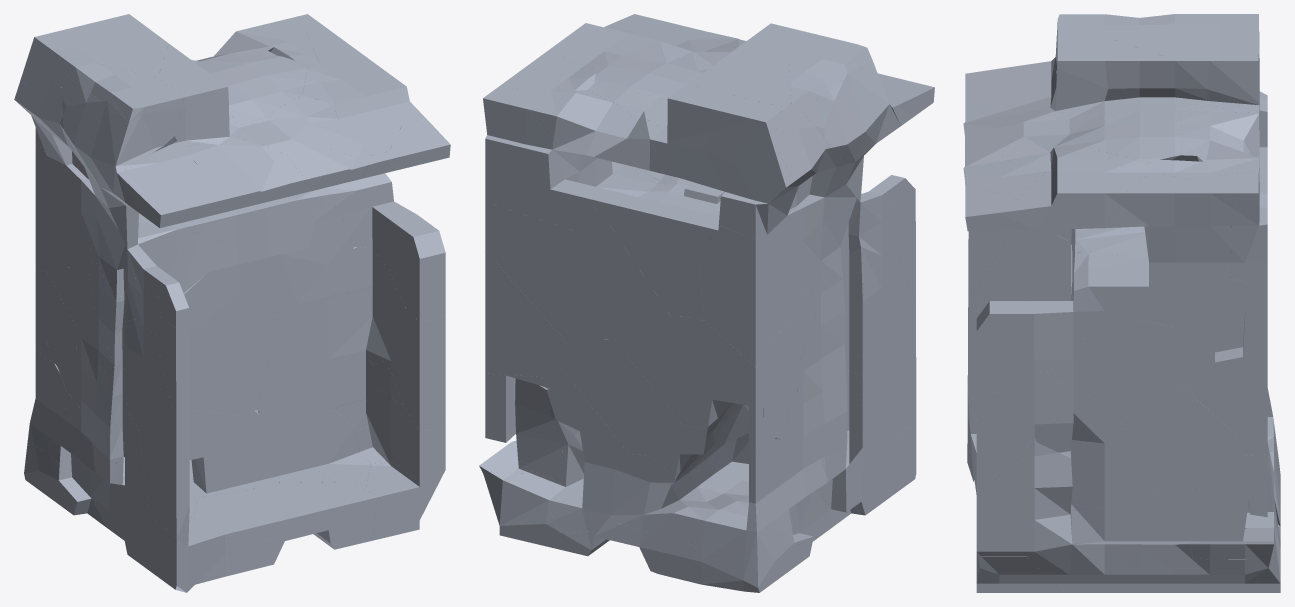
Rendered from ExportedBlenderFBXFile.fbx.
3 renders of one model, left to right at view 1: azimuth 30°, elevation 25°; view 2: azimuth 150°, elevation 25°; view 3: azimuth 270°, elevation 25°, orthographic. The views are drawn at different scales.
Parts seen in each view (by area): view 1: Box2299_cell_030, Box2299_cell_006, Box2299_cell_009, Box2299_cell_046, Box2299_cell_049, Box2299_cell_071, Box2299_cell_007, Box2299_cell_096, Box2299_cell_037, Box2299_cell_084, Box2299_cell_074, Box2299_cell_052 (+53 smaller); view 2: Box2299_cell_005, Box2299_cell_033, Box2299_cell_047, Box2299_cell_064, Box2299_cell_068, Box2299_cell_050, Box2299_cell_059, Box2299_cell_026, Box2299_cell_102, Box2299_cell_020, Box2299_cell_067, Box2299_cell_092 (+50 smaller); view 3: Box2299_cell_040, Box2299_cell_062, Box2299_cell_067, Box2299_cell_015, Box2299_cell_091, Box2299_cell_096, Box2299_cell_001, Box2299_cell_048, Box2299_cell_019, Box2299_cell_055, Box2299_cell_024, Box2299_cell_038 (+36 smaller).
Boxes of the visible parts, box(x1,y1,x2,y2) form: Box2299_cell_030: box(257, 294, 365, 414); Box2299_cell_006: box(189, 283, 280, 415); Box2299_cell_009: box(250, 188, 354, 304); Box2299_cell_046: box(117, 141, 230, 227); Box2299_cell_049: box(61, 72, 174, 189); Box2299_cell_071: box(383, 306, 445, 431); Box2299_cell_007: box(187, 137, 305, 210); Box2299_cell_096: box(303, 62, 425, 123); Box2299_cell_037: box(138, 410, 189, 537); Box2299_cell_084: box(127, 516, 231, 592); Box2299_cell_074: box(335, 384, 445, 482); Box2299_cell_052: box(59, 55, 184, 136); Box2299_cell_005: box(615, 316, 763, 433); Box2299_cell_033: box(483, 88, 600, 232); Box2299_cell_047: box(651, 84, 780, 188); Box2299_cell_064: box(545, 368, 628, 534); Box2299_cell_068: box(485, 202, 579, 345); Box2299_cell_050: box(699, 226, 770, 366); Box2299_cell_059: box(561, 339, 680, 455); Box2299_cell_026: box(580, 215, 670, 339); Box2299_cell_102: box(528, 90, 663, 173); Box2299_cell_020: box(603, 194, 698, 316); Box2299_cell_067: box(485, 250, 568, 377); Box2299_cell_092: box(694, 439, 789, 560); Box2299_cell_040: box(1106, 173, 1233, 328); Box2299_cell_062: box(1052, 39, 1211, 117); Box2299_cell_067: box(1174, 328, 1267, 455); Box2299_cell_015: box(1045, 319, 1175, 425); Box2299_cell_091: box(1123, 380, 1243, 500); Box2299_cell_096: box(1018, 148, 1149, 230); Box2299_cell_001: box(1018, 282, 1143, 371); Box2299_cell_048: box(1009, 371, 1123, 458); Box2299_cell_019: box(974, 233, 1067, 302); Box2299_cell_055: box(1071, 429, 1157, 508); Box2299_cell_024: box(976, 442, 1072, 515); Box2299_cell_038: box(1185, 443, 1267, 529).
Size of the model in its own units: 19.7 by 29.28 by 18.2.
